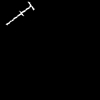double_crochet: (7, 2, 33, 24)
